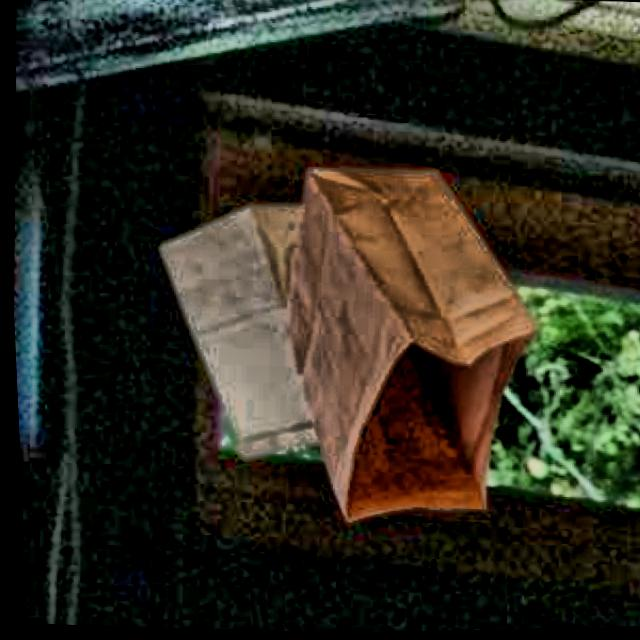Paper-bag: (251, 141, 533, 531), (157, 188, 414, 478)
